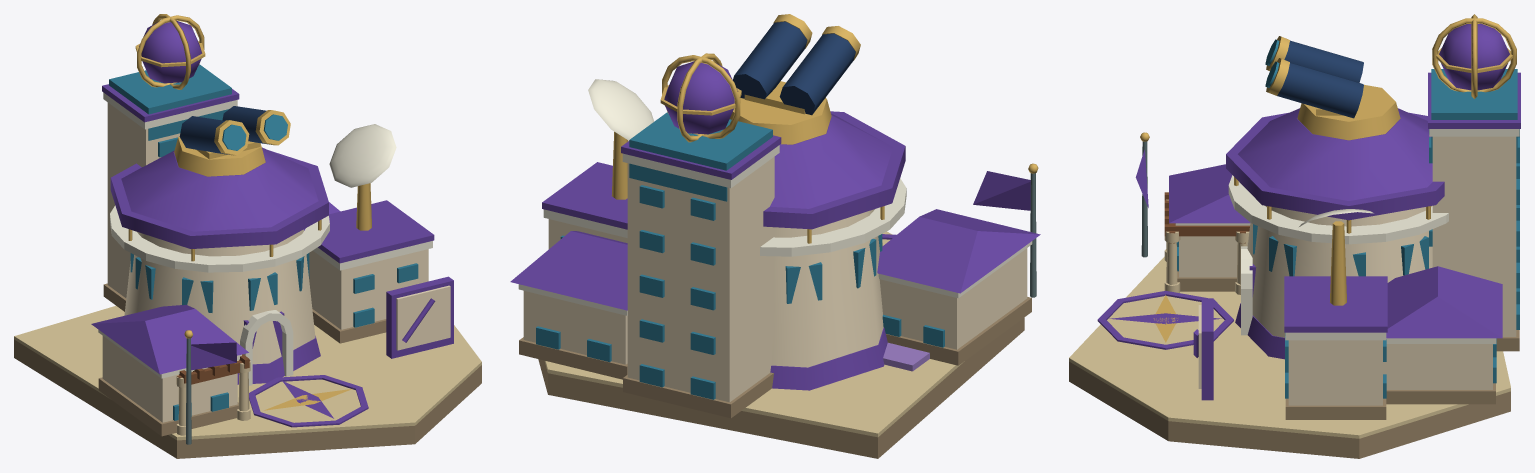
Rendered from scout-center-lv5.glb.
The picture shows the model from 3 angles, left to right: view 1: azimuth 30°, elevation 25°; view 2: azimuth 150°, elevation 25°; view 3: azimuth 270°, elevation 25°; orthographic projection. The views are drawn at different scales.
Visible parts, largest first — view 1: foundation_sand, faceted_roof_violet, octagonal_office_cream, foundation_stoneDark, archive_wing_roof_violet, observation_eave_violet, communications_cream, archive_wing_cream, observation_balcony_white, communications_roof_violet, global_office_cream, global_office_crown_glass (+25 smaller); view 2: global_office_cream, octagonal_office_cream, foundation_stoneDark, foundation_sand, archive_wing_roof_violet, faceted_roof_violet, archive_wing_cream, roof_binoculars_naval, analysis_wing_roof_violet, global_office_crown_glass, global_office_windows_glass, analysis_wing_cream (+26 smaller); view 3: foundation_sand, global_office_cream, faceted_roof_violet, foundation_stoneDark, octagonal_office_cream, analysis_wing_roof_violet, communications_cream, communications_roof_violet, observation_eave_violet, analysis_wing_cream, roof_binoculars_naval, observation_balcony_white (+25 smaller).
Boxes of the visible parts, <box> form: foundation_sand: <box>14,306,481,440</box>; faceted_roof_violet: <box>121,147,318,231</box>; octagonal_office_cream: <box>124,229,315,364</box>; foundation_stoneDark: <box>14,339,481,458</box>; archive_wing_roof_violet: <box>91,305,248,374</box>; observation_eave_violet: <box>110,150,328,248</box>; communications_cream: <box>309,249,428,329</box>; archive_wing_cream: <box>102,336,237,422</box>; observation_balcony_white: <box>110,205,329,272</box>; communications_roof_violet: <box>303,200,434,263</box>; global_office_cream: <box>107,102,180,297</box>; global_office_crown_glass: <box>109,64,231,140</box>; global_office_cream: <box>627,156,774,402</box>; octagonal_office_cream: <box>771,209,883,367</box>; foundation_stoneDark: <box>538,317,1024,458</box>; foundation_sand: <box>544,231,964,437</box>; archive_wing_roof_violet: <box>877,209,1040,293</box>; faceted_roof_violet: <box>770,113,892,208</box>; archive_wing_cream: <box>879,248,1027,349</box>; roof_binoculars_naval: <box>733,21,855,115</box>; analysis_wing_roof_violet: <box>510,231,627,310</box>; global_office_crown_glass: <box>629,112,772,201</box>; global_office_windows_glass: <box>639,185,715,399</box>; analysis_wing_cream: <box>523,291,627,364</box>; foundation_sand: <box>1069,256,1510,438</box>; global_office_cream: <box>1432,136,1516,336</box>; faceted_roof_violet: <box>1238,108,1432,200</box>; foundation_stoneDark: <box>1069,361,1510,458</box>; octagonal_office_cream: <box>1247,205,1432,337</box>; analysis_wing_roof_violet: <box>1386,266,1502,338</box>; communications_cream: <box>1288,340,1382,405</box>; communications_roof_violet: <box>1284,276,1387,332</box>; observation_eave_violet: <box>1226,112,1444,220</box>; analysis_wing_cream: <box>1383,344,1492,389</box>; roof_binoculars_naval: <box>1277,40,1363,118</box>; observation_balcony_white: <box>1228,175,1448,244</box>.
Bounding box in the file's own units: 0.9957 × 0.8115 × 1.
